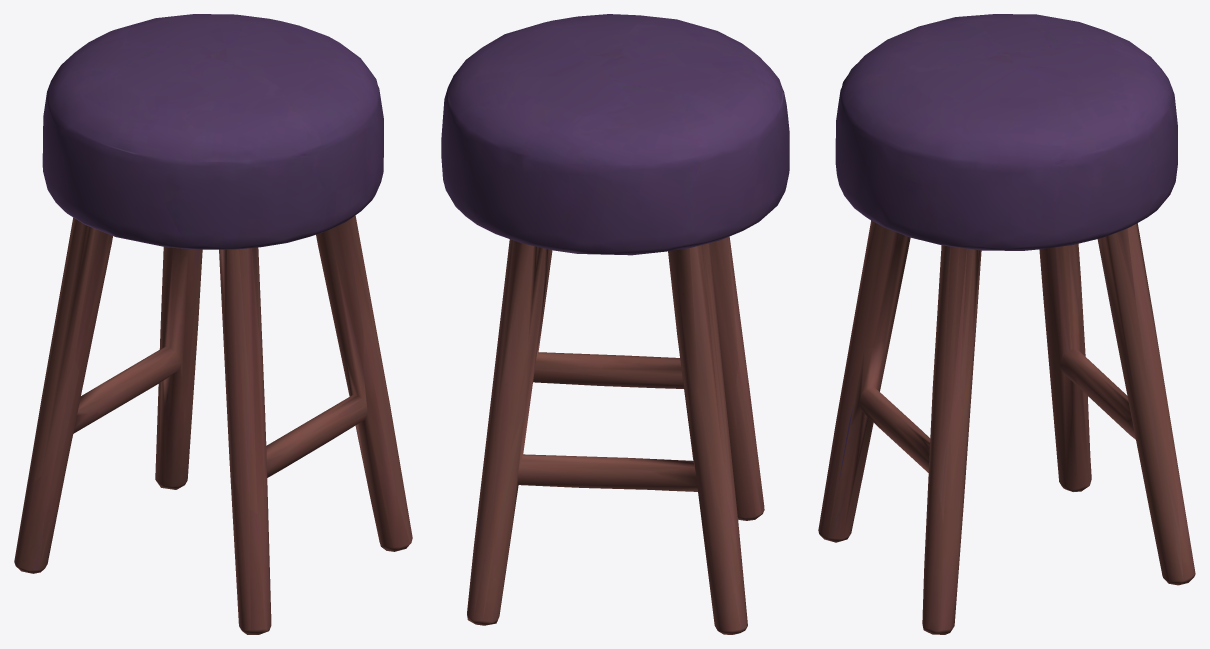
Rendered from stool.glb.
3 views of the same model, side by side, from view 1: azimuth 30°, elevation 25°; view 2: azimuth 150°, elevation 25°; view 3: azimuth 270°, elevation 25° (orthographic).
Parts seen in each view (by area): view 1: stool; view 2: stool; view 3: stool.
Part boxes in pixels (x1,y1,x2,y2): stool: [14, 14, 412, 634]; stool: [441, 14, 789, 634]; stool: [818, 14, 1195, 634].
Size of the model in its own units: 0.3605 by 0.5334 by 0.3616.
1 material, 1 textured.
